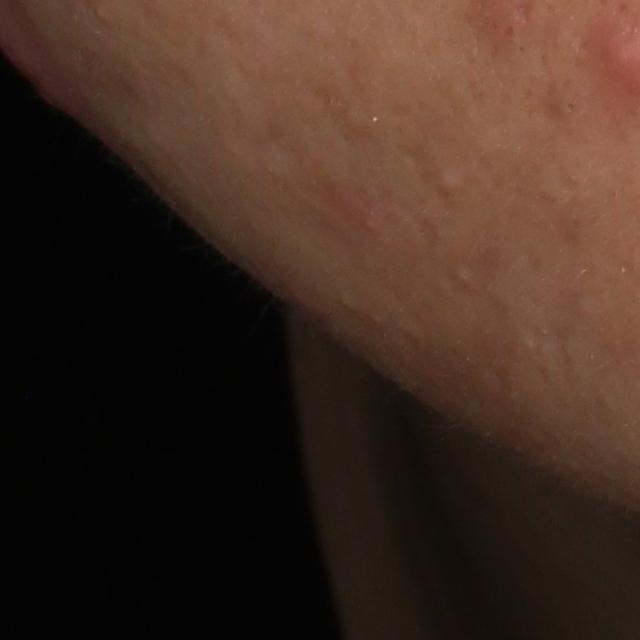comedo: (455, 264, 476, 287)
